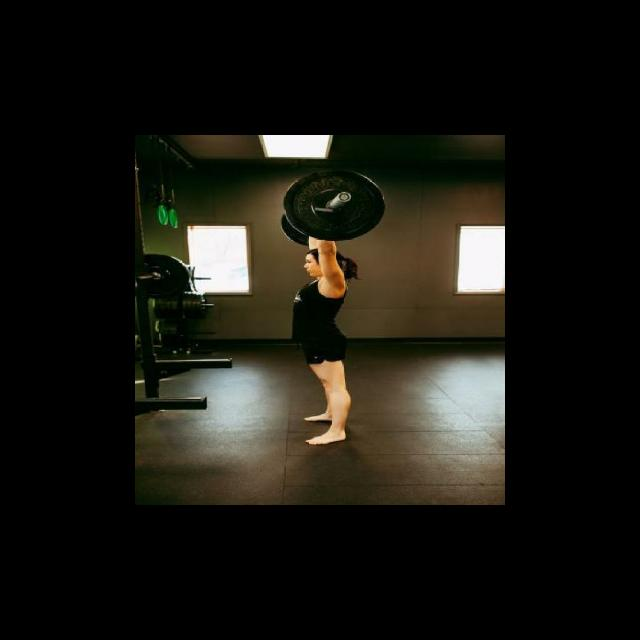barbell: (279, 171, 388, 245)
